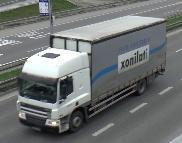truck: (14, 15, 169, 135)
